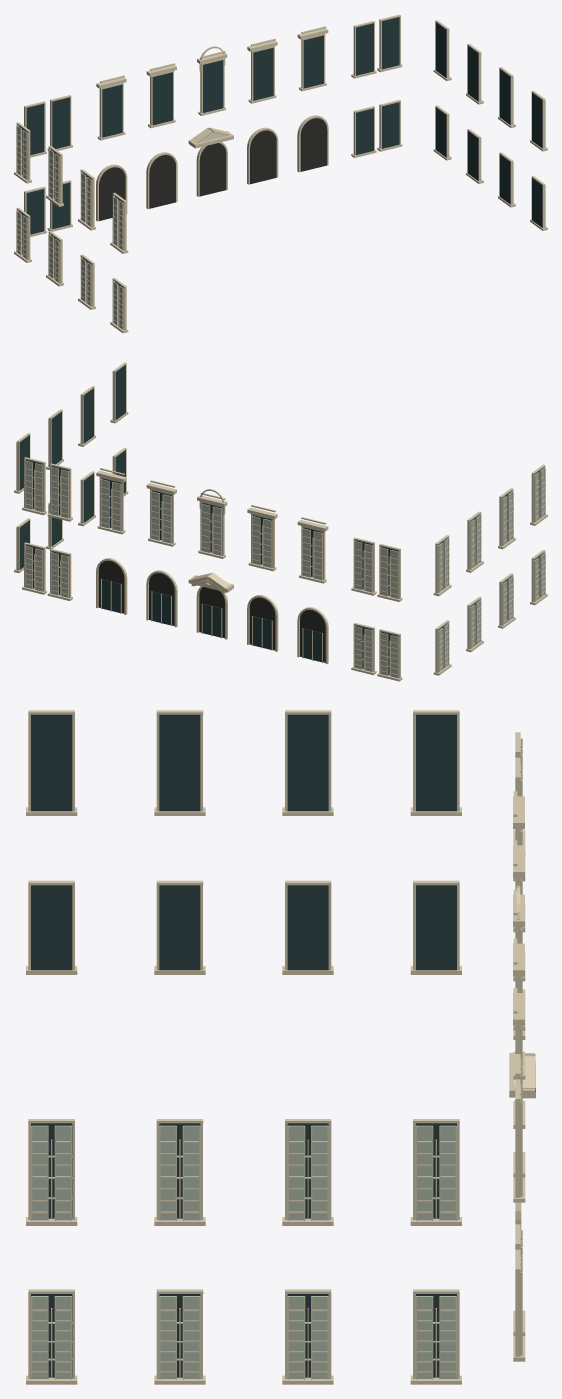
File: KOL_T1_TOWN_HALL__04_Facades.fbx
3 views of the same model, one above another, from view 1: azimuth 30°, elevation 25°; view 2: azimuth 150°, elevation 25°; view 3: azimuth 270°, elevation 25° (orthographic). The views are drawn at different scales.
Visible parts, largest first — view 1: KOL_T1_TOWN_HALL__04_Facades__KOL_T1_HeritageGlass, KOL_T1_TOWN_HALL__04_Facades__KOL_T1_HeritageCream, KOL_T1_TOWN_HALL__04_Facades__KOL_T1_HeritageCream.001, KOL_T1_TOWN_HALL__04_Facades__KOL_T1_HeritageDark, KOL_T1_TOWN_HALL__04_Facades__KOL_T1_HeritageShutter; view 2: KOL_T1_TOWN_HALL__04_Facades__KOL_T1_HeritageCream, KOL_T1_TOWN_HALL__04_Facades__KOL_T1_HeritageShutter, KOL_T1_TOWN_HALL__04_Facades__KOL_T1_HeritageGlass, KOL_T1_TOWN_HALL__04_Facades__KOL_T1_HeritageCream.001, KOL_T1_TOWN_HALL__04_Facades__KOL_T1_HeritageDark; view 3: KOL_T1_TOWN_HALL__04_Facades__KOL_T1_HeritageGlass, KOL_T1_TOWN_HALL__04_Facades__KOL_T1_HeritageCream.001, KOL_T1_TOWN_HALL__04_Facades__KOL_T1_HeritageShutter, KOL_T1_TOWN_HALL__04_Facades__KOL_T1_HeritageCream.
Part boxes in pixels (bbox=[...]): KOL_T1_TOWN_HALL__04_Facades__KOL_T1_HeritageGlass: bbox=[18, 17, 542, 287]; KOL_T1_TOWN_HALL__04_Facades__KOL_T1_HeritageCream: bbox=[14, 14, 402, 262]; KOL_T1_TOWN_HALL__04_Facades__KOL_T1_HeritageCream.001: bbox=[16, 20, 547, 333]; KOL_T1_TOWN_HALL__04_Facades__KOL_T1_HeritageDark: bbox=[99, 118, 327, 220]; KOL_T1_TOWN_HALL__04_Facades__KOL_T1_HeritageShutter: bbox=[17, 126, 123, 329]; KOL_T1_TOWN_HALL__04_Facades__KOL_T1_HeritageCream: bbox=[22, 457, 451, 681]; KOL_T1_TOWN_HALL__04_Facades__KOL_T1_HeritageShutter: bbox=[25, 461, 544, 677]; KOL_T1_TOWN_HALL__04_Facades__KOL_T1_HeritageGlass: bbox=[19, 365, 543, 674]; KOL_T1_TOWN_HALL__04_Facades__KOL_T1_HeritageCream.001: bbox=[14, 362, 547, 652]; KOL_T1_TOWN_HALL__04_Facades__KOL_T1_HeritageDark: bbox=[98, 561, 325, 662]; KOL_T1_TOWN_HALL__04_Facades__KOL_T1_HeritageGlass: bbox=[31, 714, 456, 1377]; KOL_T1_TOWN_HALL__04_Facades__KOL_T1_HeritageCream.001: bbox=[26, 710, 535, 1384]; KOL_T1_TOWN_HALL__04_Facades__KOL_T1_HeritageShutter: bbox=[32, 739, 521, 1378]; KOL_T1_TOWN_HALL__04_Facades__KOL_T1_HeritageCream: bbox=[410, 710, 525, 1361].
Bounding box in the file's own units: 115 × 37.7 × 59.65.
